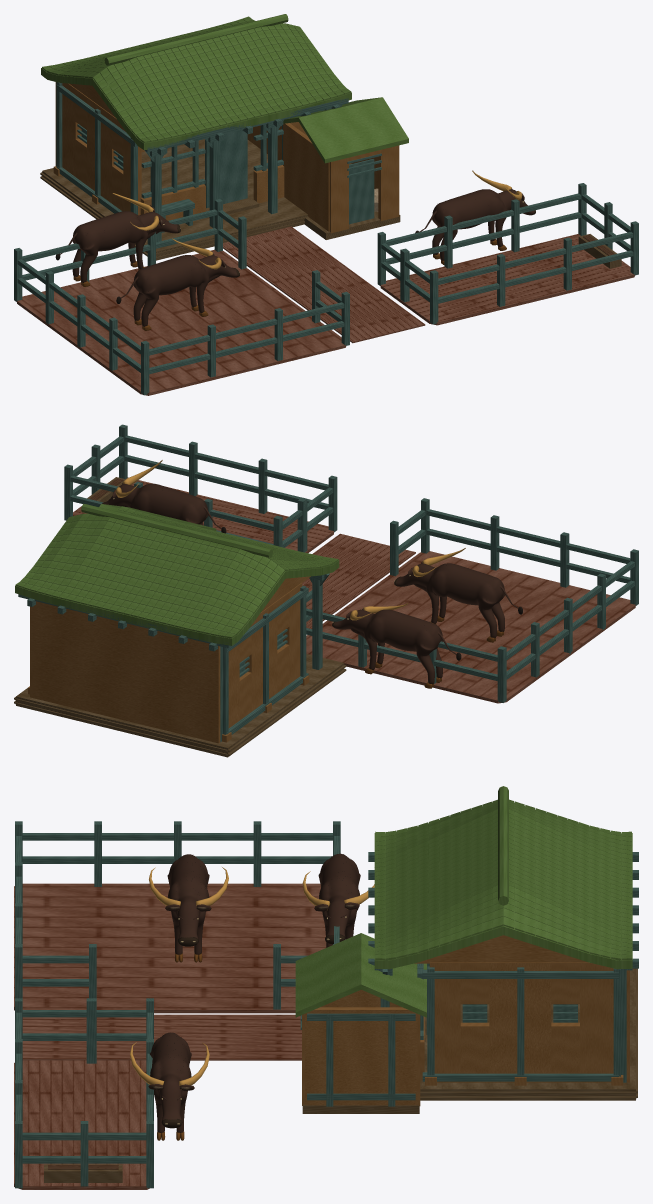
The picture shows the model from 3 angles, top to bottom: view 1: azimuth 30°, elevation 25°; view 2: azimuth 150°, elevation 25°; view 3: azimuth 270°, elevation 25°; orthographic projection. The views are drawn at different scales.
Parts seen in each view (by area): view 1: garrison_part_0001, garrison_part_0000; view 2: garrison_part_0001, garrison_part_0000; view 3: garrison_part_0001, garrison_part_0000.
Boxes of the visible parts, box(x1,y1,x2,y2) form: garrison_part_0001: box(14, 14, 638, 395); garrison_part_0000: box(17, 139, 634, 395); garrison_part_0001: box(15, 424, 638, 743); garrison_part_0000: box(14, 477, 635, 757); garrison_part_0001: box(15, 786, 638, 1188); garrison_part_0000: box(14, 883, 637, 1189).
Size of the model in its own units: 1500 by 457 by 1309.
1 material, 1 textured.
